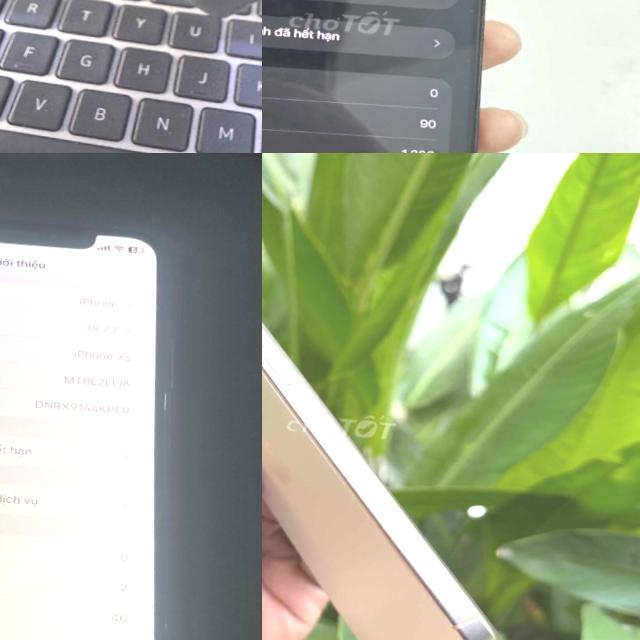gen_11: (0, 0, 262, 42)
gen_12_13: (262, 0, 525, 153)
gen_16: (262, 324, 498, 640)
gen_x_xs: (0, 207, 217, 640)
